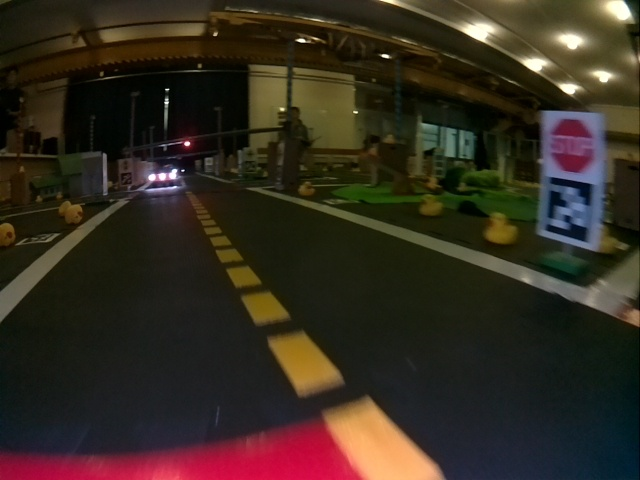Duckie: (485, 213, 514, 243), (420, 192, 444, 214), (298, 180, 316, 197)
QR code: (543, 178, 600, 250)
Stop sign: (547, 113, 602, 170)
